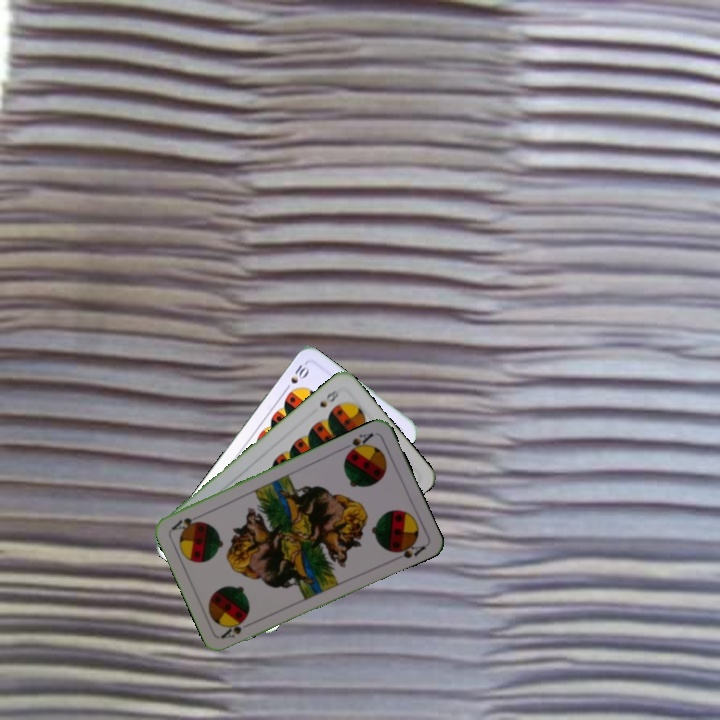S10: (280, 359, 312, 394)
S8: (315, 384, 342, 410)
SA: (339, 428, 376, 458), (217, 615, 256, 641)
